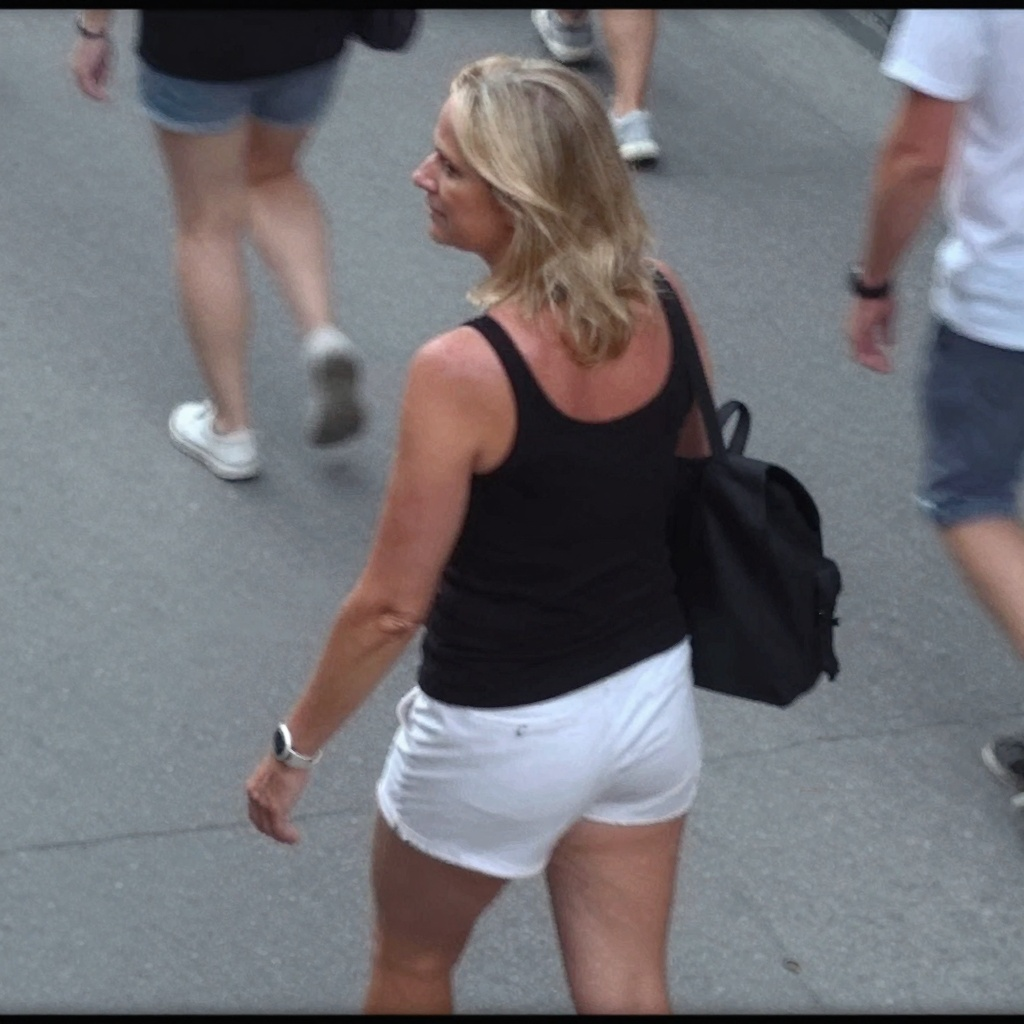Normal activity: (245, 54, 723, 1000), (69, 6, 419, 484), (842, 9, 1024, 804), (530, 10, 662, 169)
